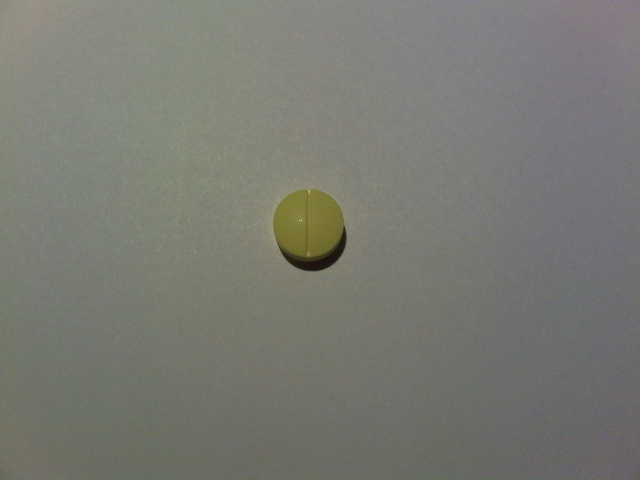|: (302, 187, 315, 262)
